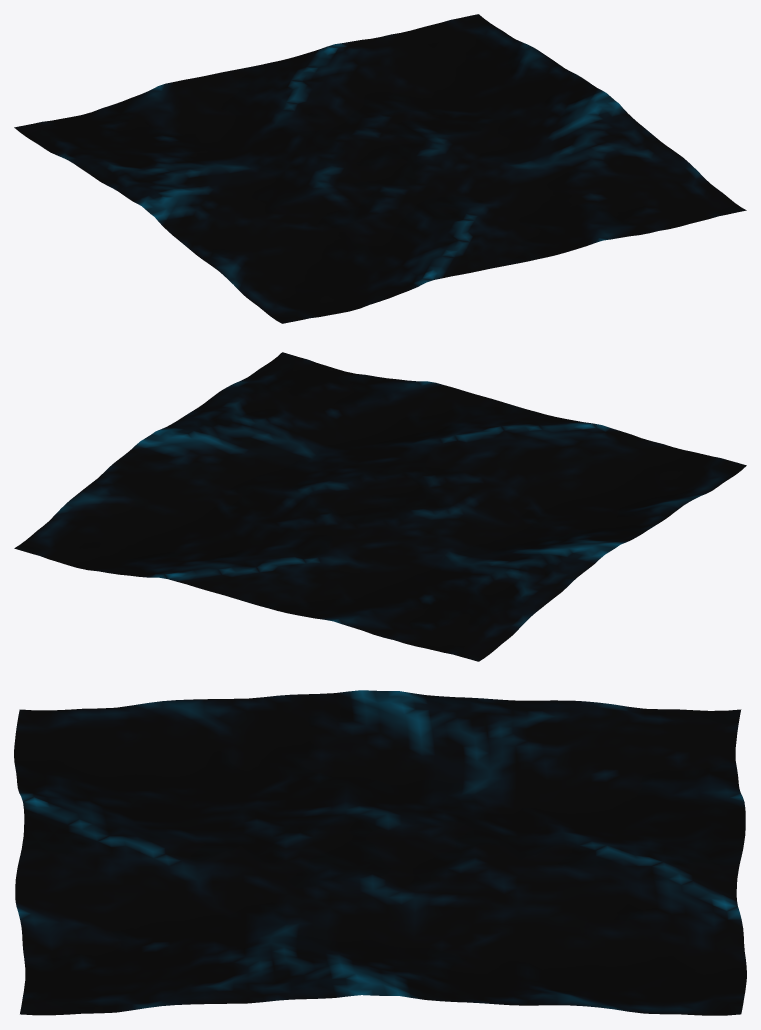
File: Sea(13).glb
3 views of the same model, one above another, from view 1: azimuth 30°, elevation 25°; view 2: azimuth 150°, elevation 25°; view 3: azimuth 270°, elevation 25° (orthographic). The views are drawn at different scales.
Visible parts, largest first — view 1: Sea; view 2: Sea; view 3: Sea.
Part boxes in pixels (x1,y1,x2,y2): Sea: [14, 14, 746, 323]; Sea: [14, 352, 746, 661]; Sea: [14, 690, 746, 1015].
Size of the model in its own units: 50.49 by 2.16 by 50.79.
